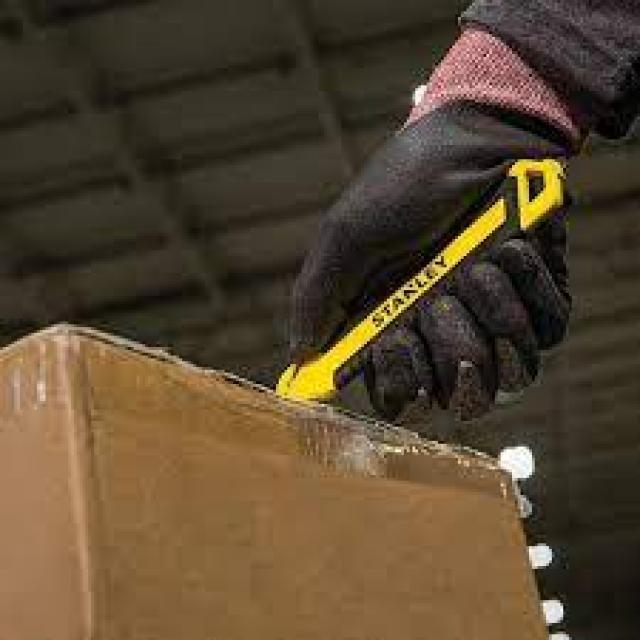cutter: (269, 154, 571, 424)
